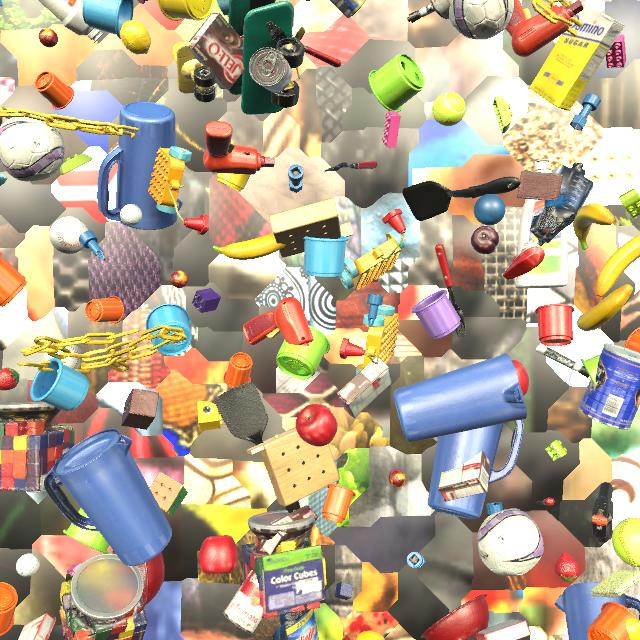ycb_002_master_chef_can: (578, 343, 640, 430)
ycb_004_sugar_box: (529, 3, 625, 111)
ycb_005_tomato_soup_can: (224, 570, 263, 634), (249, 47, 292, 92), (430, 0, 450, 19)
ycb_007_tuna_fish_can: (26, 477, 64, 493)
ycb_008_pudding_box: (188, 13, 245, 90), (337, 357, 392, 418), (255, 505, 318, 555), (438, 450, 490, 502)
ycb_009_gelatin_box: (476, 618, 531, 640), (18, 613, 56, 640)
ycb_010_potted_meat_can: (330, 0, 366, 18)
ycb_011_banana: (595, 235, 640, 297), (577, 284, 633, 331), (213, 232, 286, 260), (573, 204, 614, 250)
ycb_012_strawberry: (555, 552, 579, 582), (0, 368, 20, 391)
ycb_013_apple: (295, 404, 338, 447), (199, 535, 238, 574), (512, 360, 529, 396)
ycb_014_lemon: (120, 20, 151, 54), (626, 618, 640, 640), (355, 631, 385, 640)
ycb_018_plum: (471, 226, 499, 255), (0, 117, 3, 126), (0, 89, 1, 93)
